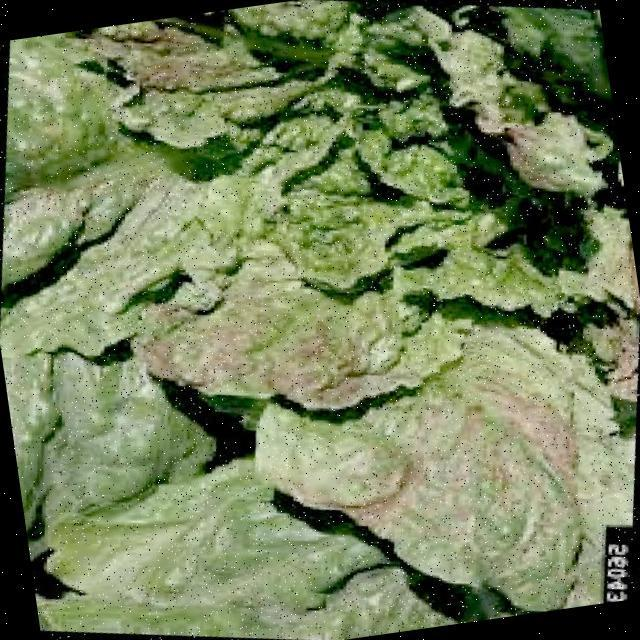Lettuce Mosaic Virus: (0, 0, 518, 447), (359, 364, 626, 608)
